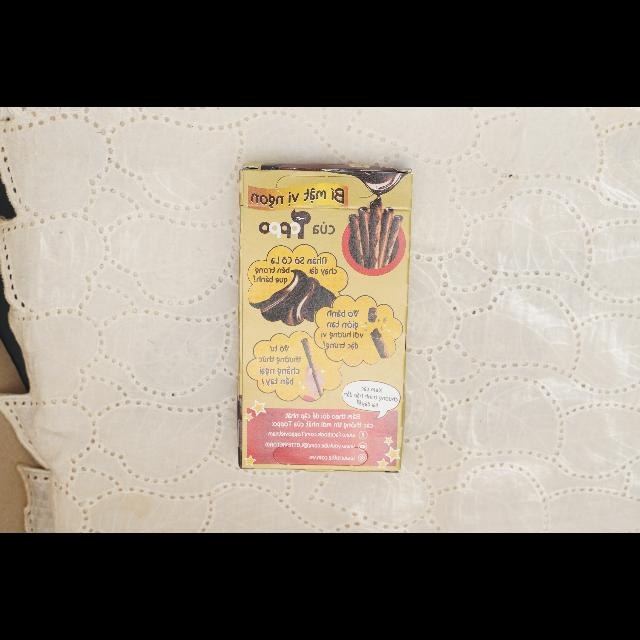banh_toppo_socola: (236, 165, 412, 472)
